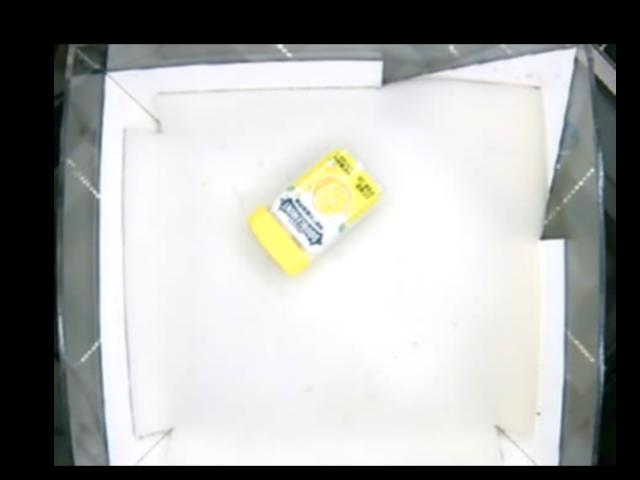Bottle: (249, 145, 384, 276)
